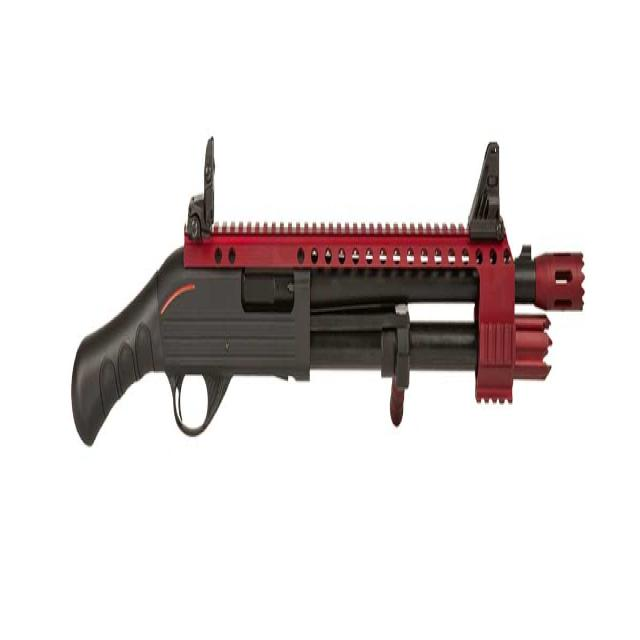ShotGun: (71, 138, 585, 448)
